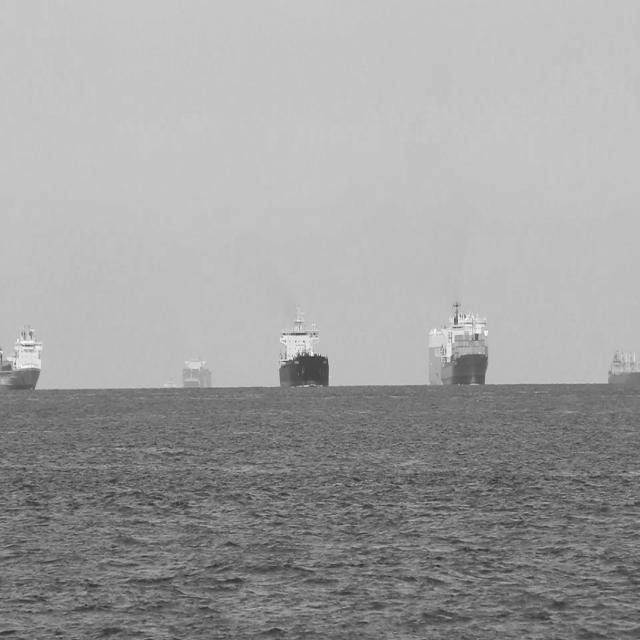ship: (428, 295, 490, 390), (277, 296, 331, 391), (0, 322, 44, 392), (605, 347, 639, 387), (177, 354, 210, 391), (158, 375, 178, 393)
